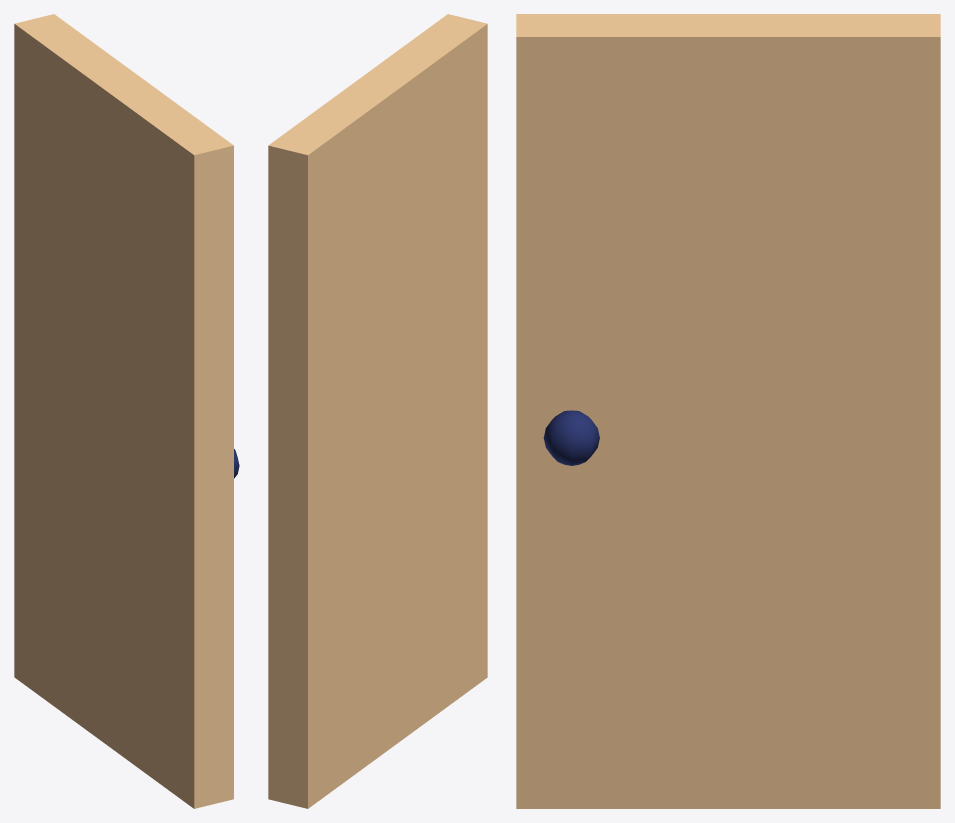
File: DOOR.fbx
3 renders of one model, left to right at view 1: azimuth 30°, elevation 25°; view 2: azimuth 150°, elevation 25°; view 3: azimuth 270°, elevation 25°, orthographic. The views are drawn at different scales.
Visible parts, largest first — view 1: DOOR; view 2: DOOR; view 3: DOOR, Sphere.004.
Part boxes in pixels (left/top/right/bottom): DOOR: left=14, top=14, right=233, bottom=808; DOOR: left=268, top=14, right=487, bottom=808; DOOR: left=516, top=14, right=940, bottom=808; Sphere.004: left=543, top=410, right=599, bottom=465.
Size of the model in its own units: 72.82 by 684 by 341.
